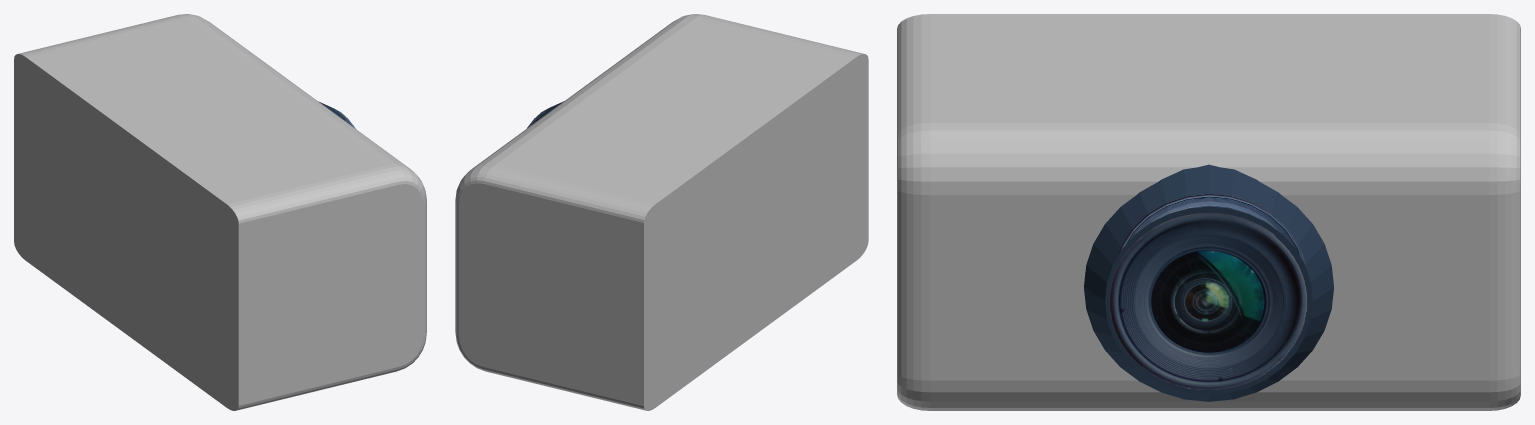
File: camera.dae
3 views of the same model, side by side, from view 1: azimuth 30°, elevation 25°; view 2: azimuth 150°, elevation 25°; view 3: azimuth 270°, elevation 25° (orthographic). The views are drawn at different scales.
Visible parts, largest first — view 1: Cube; view 2: Cube; view 3: Cube, Cylinder.
Part boxes in pixels (x1,y1,x2,y2): Cube: [14, 14, 426, 410]; Cube: [455, 14, 868, 410]; Cube: [897, 14, 1520, 410]; Cylinder: [1084, 164, 1333, 401].
Size of the model in its own units: 0.0199 by 0.036 by 0.018.
2 materials, 2 textured.
